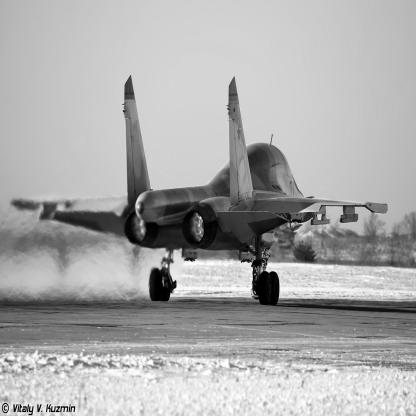Su34: (10, 75, 389, 307)
